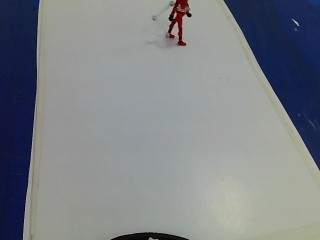pedestrian: (158, 0, 193, 53)
